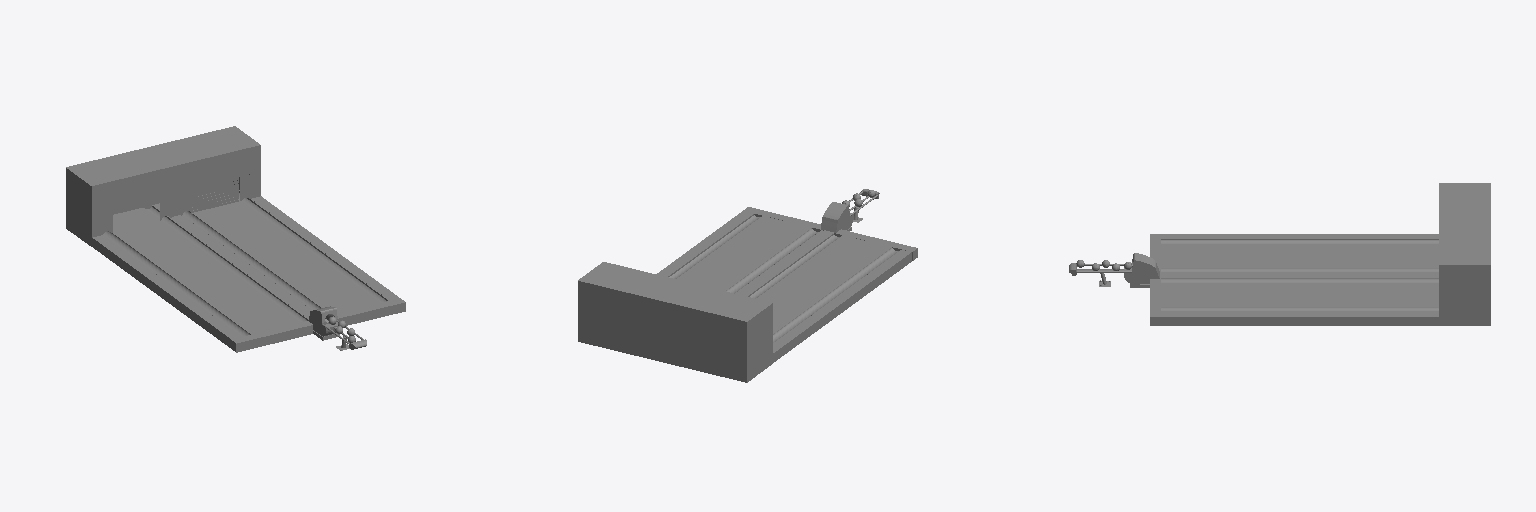
Rendered from Boliche.obj.
The picture shows the model from 3 angles: view 1: azimuth 30°, elevation 25°; view 2: azimuth 150°, elevation 25°; view 3: azimuth 270°, elevation 25°; orthographic projection.
Parts seen in each view (by area): view 1: Object009; view 2: Object009; view 3: Object009.
Part boxes in pixels (bbox=[...]): Object009: bbox=[66, 126, 405, 352]; Object009: bbox=[578, 189, 917, 382]; Object009: bbox=[1069, 183, 1490, 325].
Bounding box in the file's own units: 26.39 × 9.53 × 56.94.